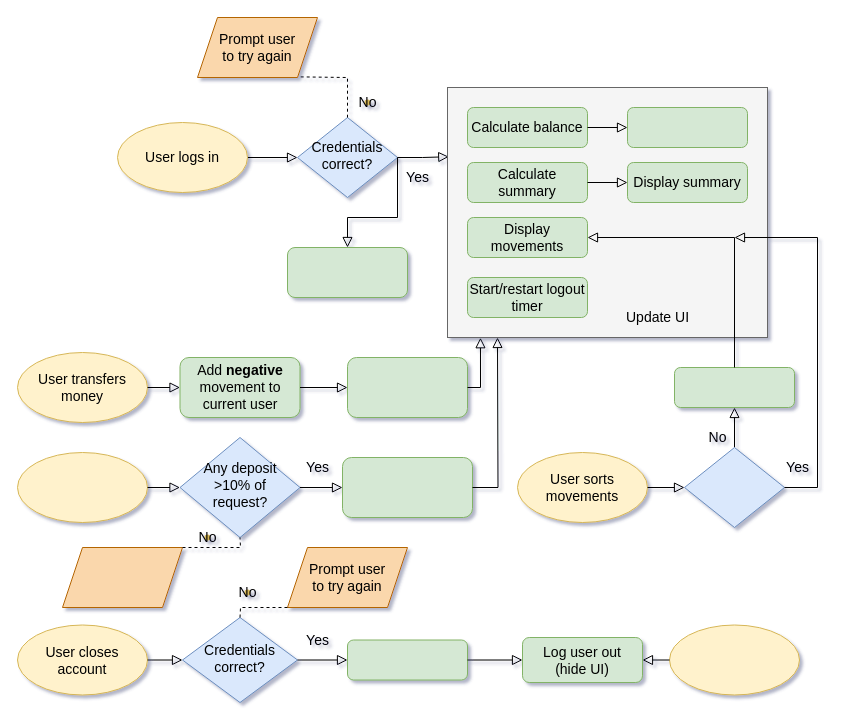
This 851x726 diagram has some shape labels left out. Here are the shapes that lost their labels. From the top down, the centre of each, then its label:
At point (687, 127): "Display balance".
At point (347, 272): "Display UI & welcome message".
At point (407, 387): "Add positive movement to recipient".
At point (734, 387): "Sort movements".
At point (82, 487): "User requests loan".
At point (407, 487): "Add positive movement to current user".
At point (734, 487): "Already sorted?".
At point (122, 577): "Inform user of loan denial".
At point (407, 659): "Delete user from data".
At point (734, 659): "Logout timer expires".
